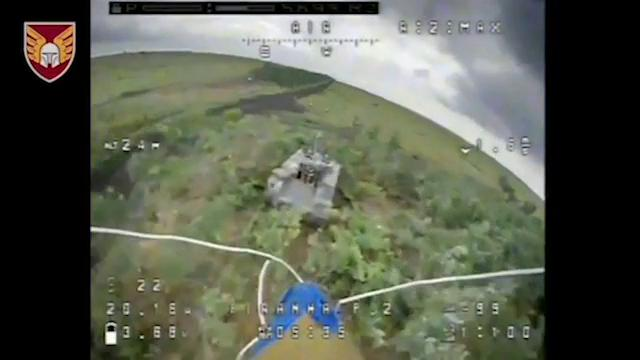tank: (263, 129, 345, 235)
